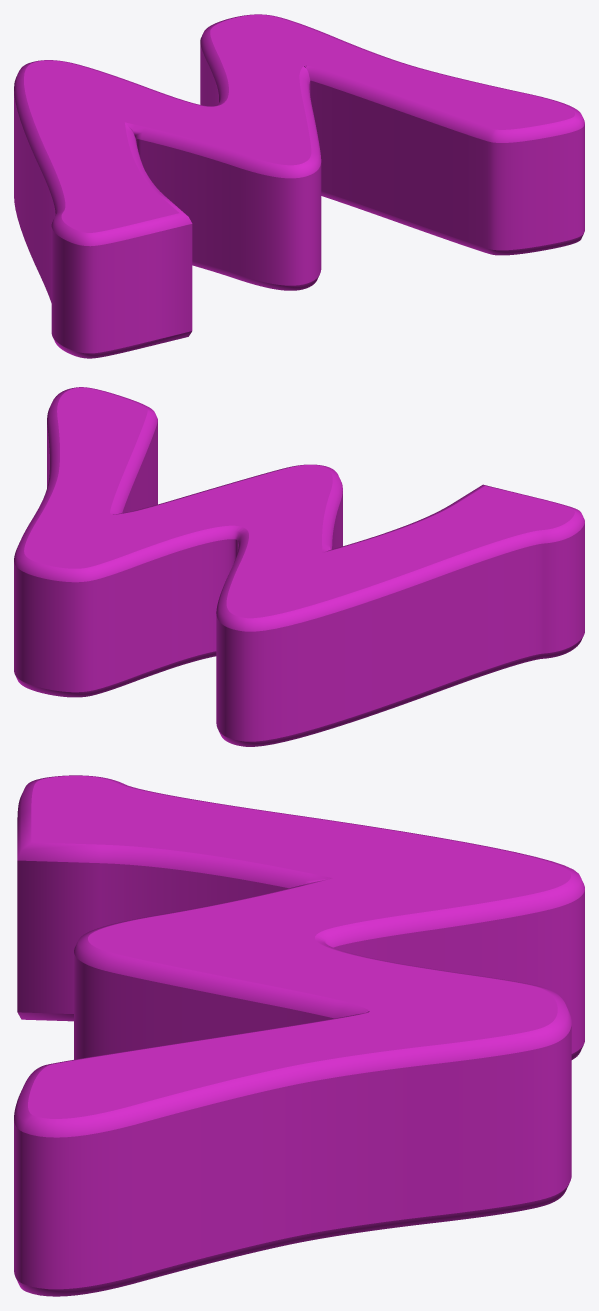
Rendered from Bubble_Letter_w.fbx.
3 renders of one model, top to bottom at view 1: azimuth 30°, elevation 25°; view 2: azimuth 150°, elevation 25°; view 3: azimuth 270°, elevation 25°, orthographic. The views are drawn at different scales.
Parts seen in each view (by area): view 1: BubbleLetter_w; view 2: BubbleLetter_w; view 3: BubbleLetter_w.
Part boxes in pixels (bbox=[...]): BubbleLetter_w: bbox=[14, 14, 584, 358]; BubbleLetter_w: bbox=[14, 387, 584, 746]; BubbleLetter_w: bbox=[14, 775, 584, 1296].
Bounding box in the file's own units: 0.6018 × 0.14 × 0.4091.
